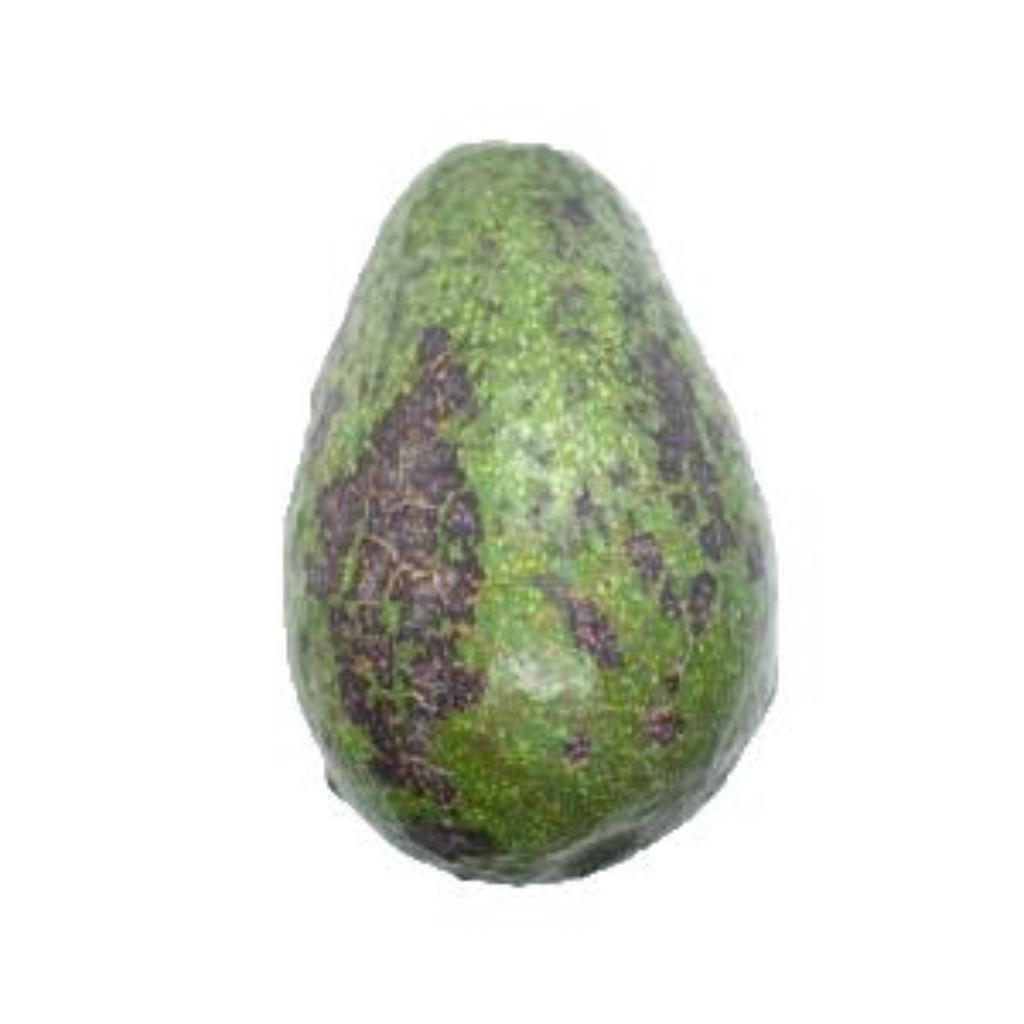cercospora: (260, 130, 792, 894)
